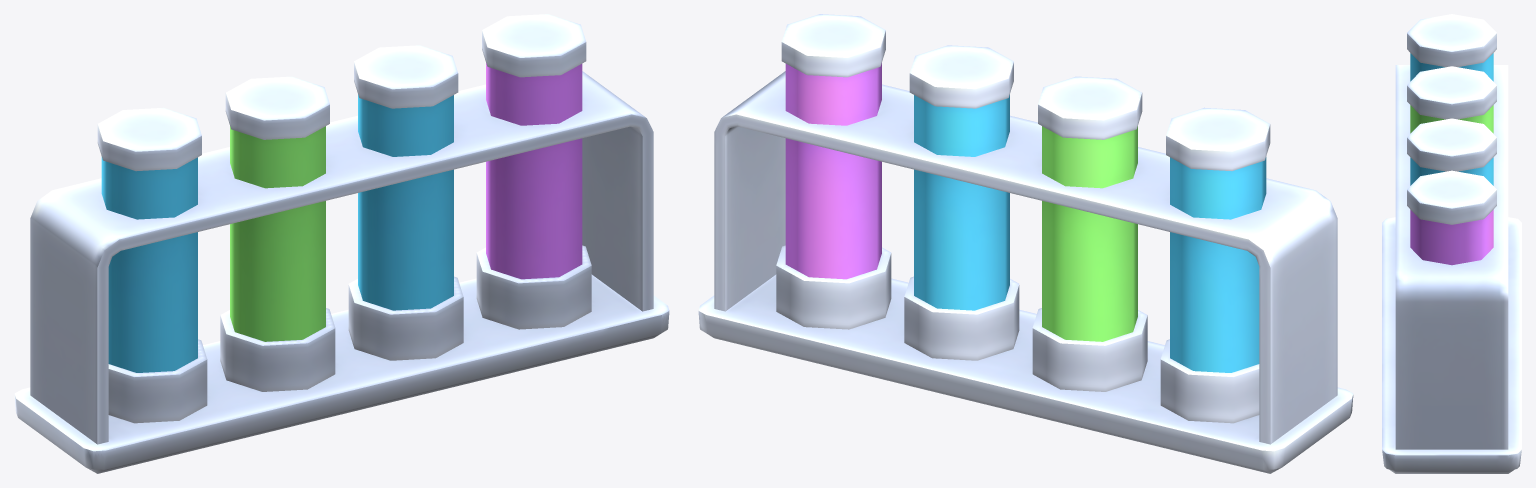
The model's file is obj_chemical.gltf.
3 renders of one model, left to right at view 1: azimuth 30°, elevation 25°; view 2: azimuth 150°, elevation 25°; view 3: azimuth 270°, elevation 25°, orthographic. The views are drawn at different scales.
Parts seen in each view (by area): view 1: obj_chemical; view 2: obj_chemical; view 3: obj_chemical.
Boxes of the visible parts, bbox=[...] form: obj_chemical: bbox=[14, 14, 669, 473]; obj_chemical: bbox=[698, 14, 1353, 473]; obj_chemical: bbox=[1382, 14, 1521, 473].
Size of what is drawn, in the model's own units: 0.5221 by 0.2549 by 0.1296.
1 material, 1 textured.
